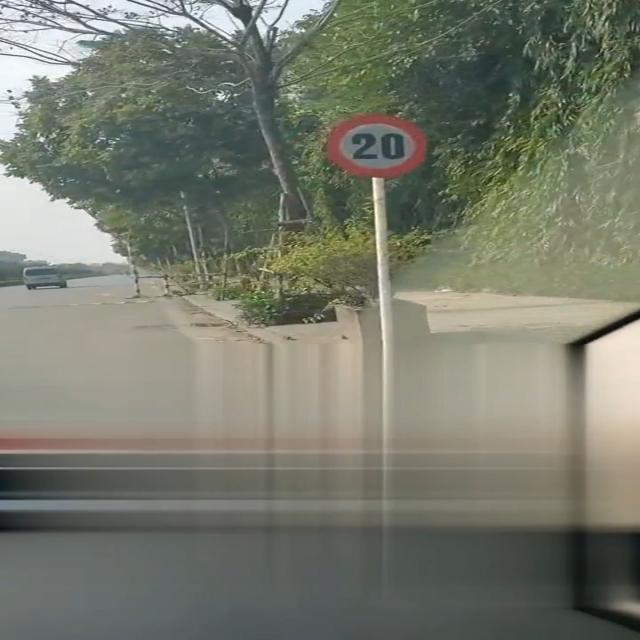127-toc-do-toi-da-20: (326, 114, 426, 178)
